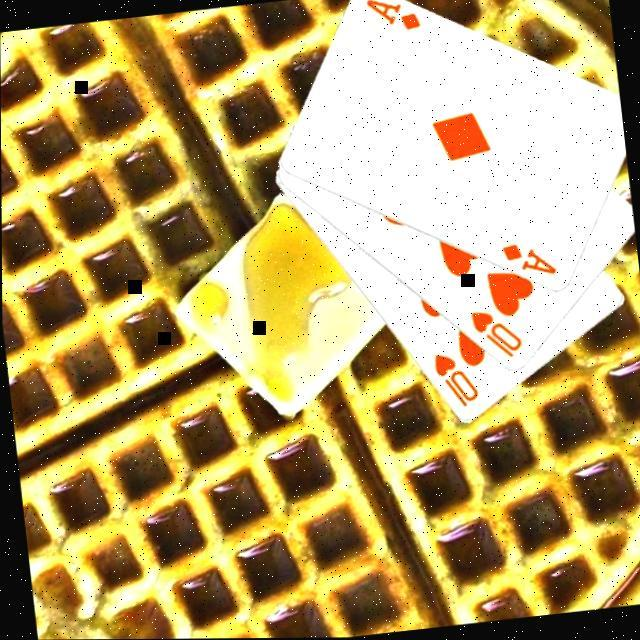10H: (463, 303, 523, 364), (426, 346, 480, 413)
AD: (494, 236, 557, 283), (360, 0, 422, 38)
